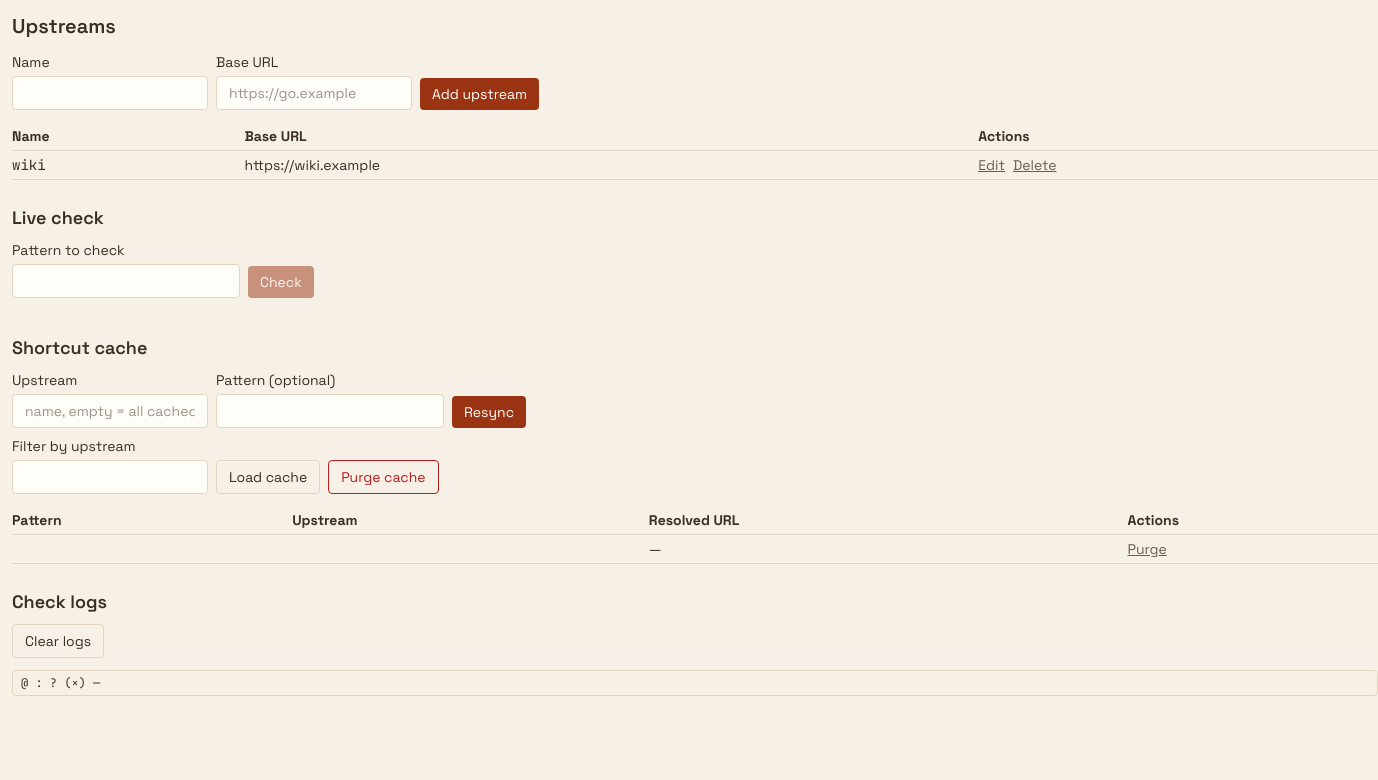
Test: UpstreamsPage › surfaces stream disconnects
Expected: the text "wiki" is shown, [12, 150, 244, 180]
Type "x" into the field labelled "Pattern to check".
click(126, 281); type("x")  # box [12, 264, 240, 298]
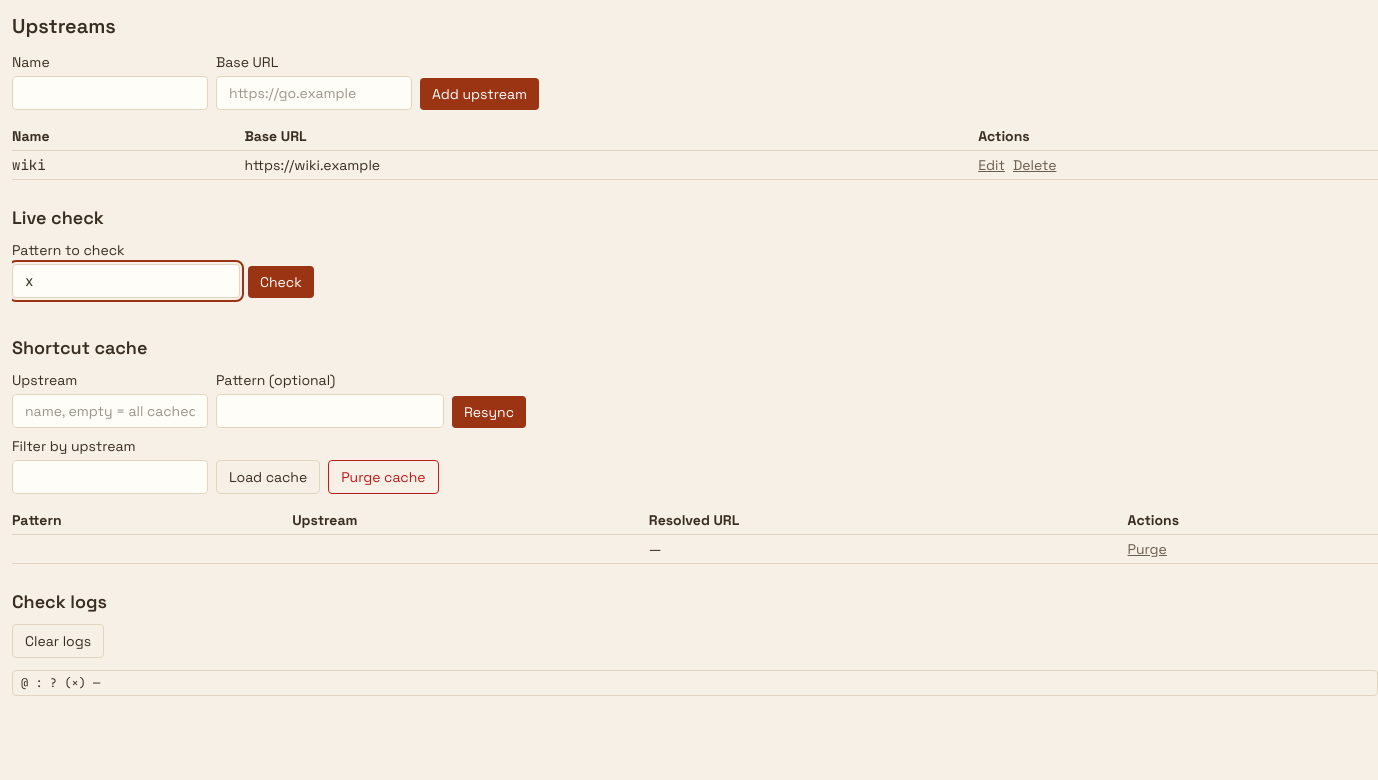
Click the button "Check".
click(281, 282)  # box [248, 266, 314, 298]
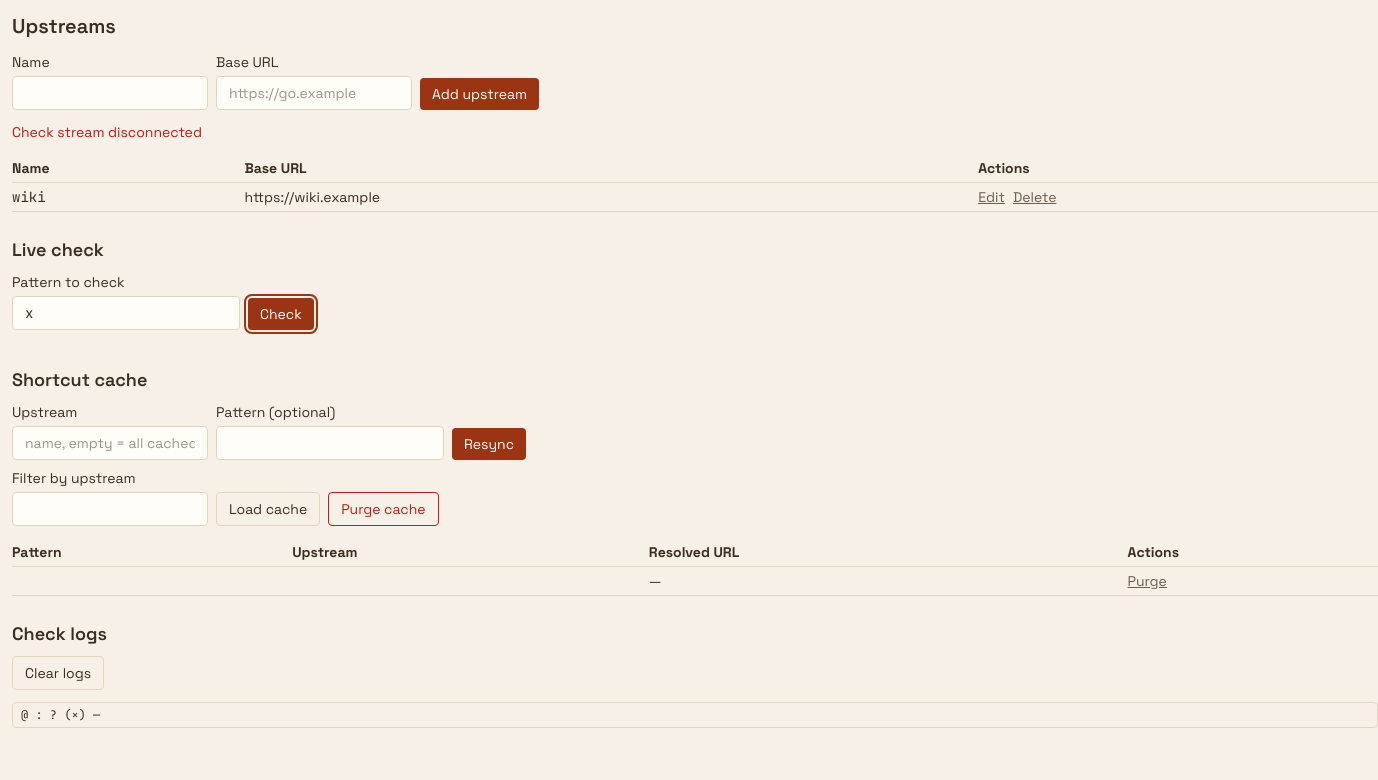
Expected: the message shows "disconnected", [12, 123, 202, 141]
